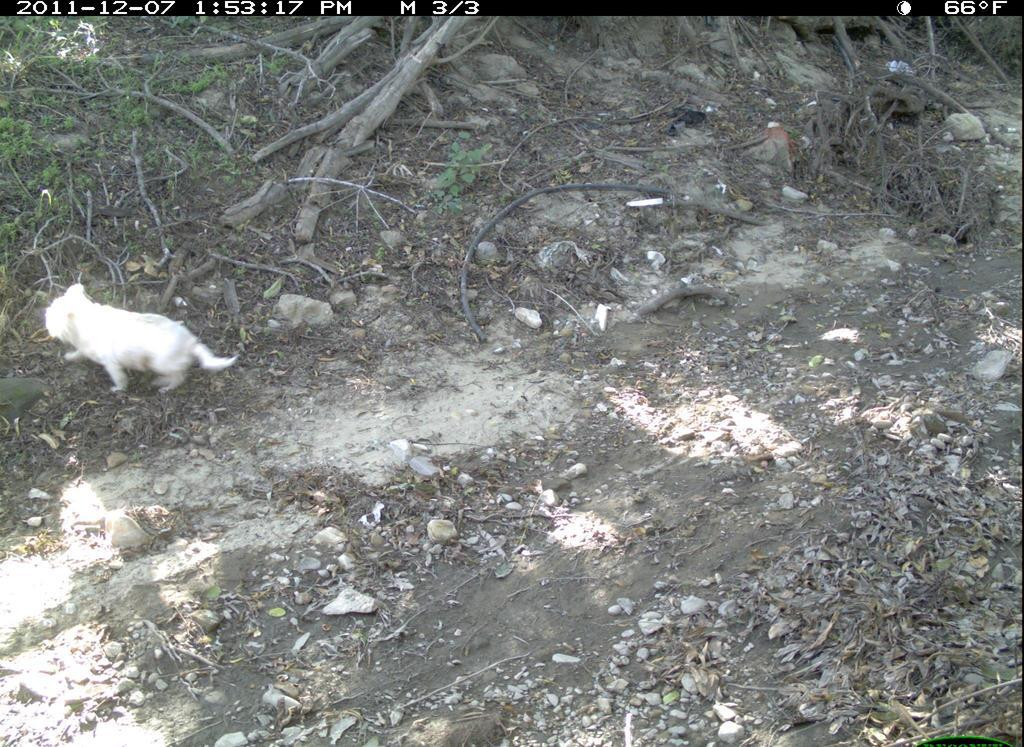dog: (36, 281, 259, 419)
